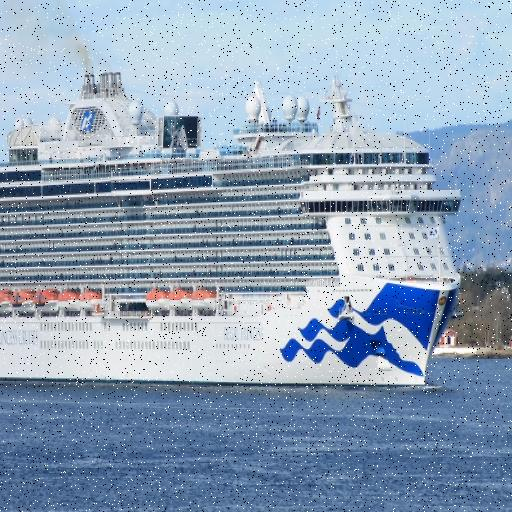cruises: (1, 68, 469, 398)
